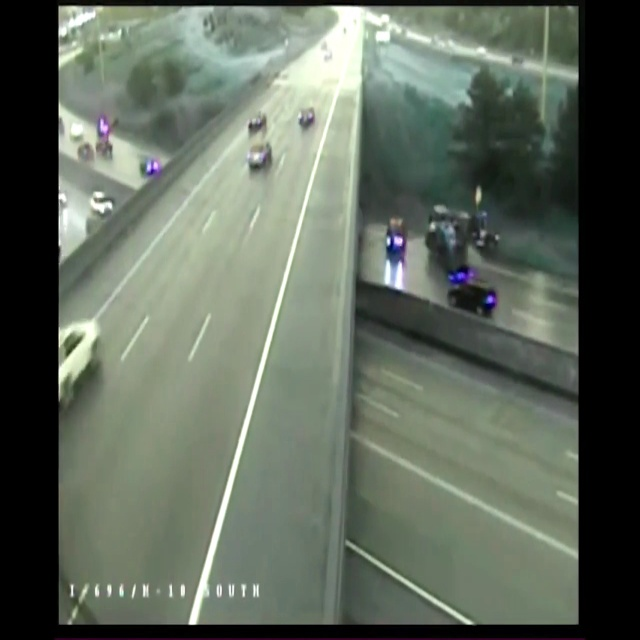acc: (417, 202, 514, 265)
